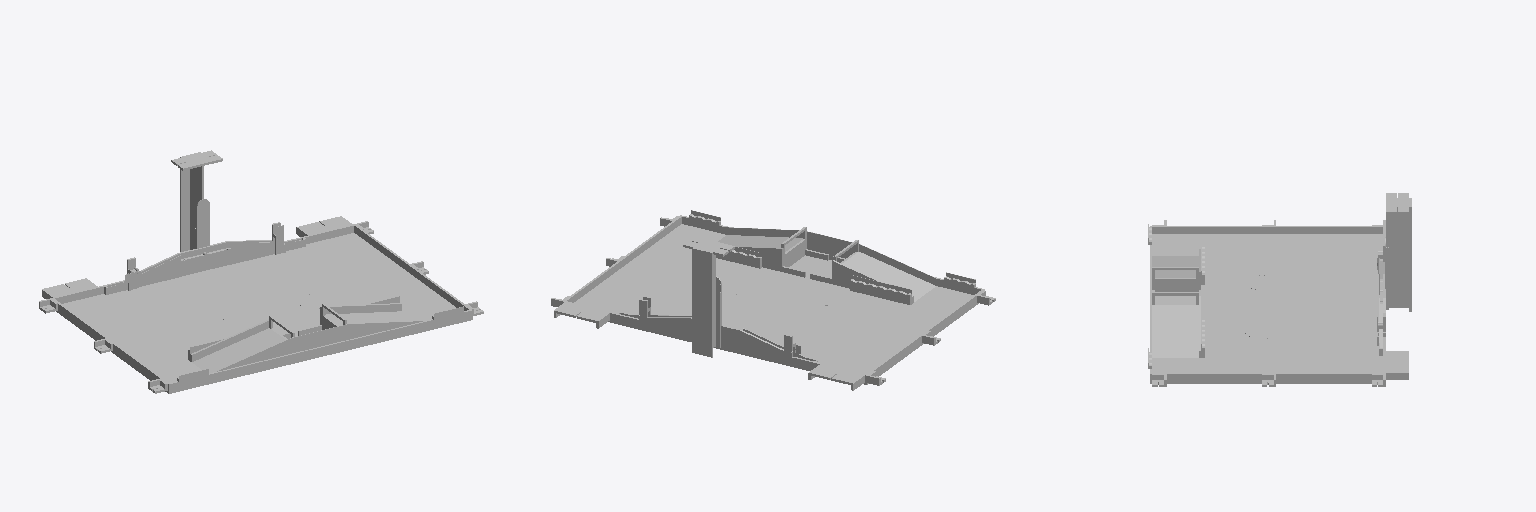
File: table_without_scale.obj
The picture shows the model from 3 angles: view 1: azimuth 30°, elevation 25°; view 2: azimuth 150°, elevation 25°; view 3: azimuth 270°, elevation 25°; orthographic projection.
Parts seen in each view (by area): view 1: Ground v30, BorderLong v5, R2_1, R3_, R3_1, BorderSmall v2, BorderSmall v003, A3, A3(Mirror), MiddleBeaconVertSupport2 v3, BorderLong v006, R2_2 (+7 smaller); view 2: Ground v30, MiddleBeaconVertSupport2 v3, BorderLong v006, R2_1, BorderSmall v2, BorderLong v5, BorderSmall v003, Dispenser6Places v004, R3_1, A2(Mirror), R3_, R2_2 (+6 smaller); view 3: Ground v30, R2_2, BorderSmall v003, MiddleBeaconVertSupport1 v2, BorderSmall v2, R2_1, R4_2, Labo1 v1.
Part boxes in pixels (bbox=[...]): Ground v30: bbox=[62, 233, 455, 382]; BorderLong v5: bbox=[170, 310, 470, 393]; R2_1: bbox=[192, 328, 284, 372]; R3_: bbox=[216, 331, 319, 371]; R3_1: bbox=[320, 321, 422, 346]; BorderSmall v2: bbox=[51, 298, 170, 393]; BorderSmall v003: bbox=[353, 224, 472, 319]; A3: bbox=[231, 239, 305, 264]; A3(Mirror): bbox=[106, 255, 180, 294]; MiddleBeaconVertSupport2 v3: bbox=[180, 152, 200, 251]; BorderLong v006: bbox=[55, 226, 353, 303]; R2_2: bbox=[325, 311, 413, 325]; Ground v30: bbox=[574, 224, 973, 373]; MiddleBeaconVertSupport2 v3: bbox=[692, 247, 712, 357]; BorderLong v006: bbox=[608, 312, 864, 384]; R2_1: bbox=[842, 252, 935, 301]; BorderSmall v2: bbox=[865, 289, 984, 384]; BorderLong v5: bbox=[682, 216, 981, 294]; BorderSmall v003: bbox=[563, 215, 681, 302]; Dispenser6Places v004: bbox=[850, 275, 911, 304]; R3_1: bbox=[727, 227, 831, 252]; A2(Mirror): bbox=[716, 325, 783, 354]; R3_: bbox=[832, 237, 936, 278]; R2_2: bbox=[718, 235, 802, 251]; Ground v30: bbox=[1152, 234, 1382, 372]; R2_2: bbox=[1152, 305, 1198, 357]; BorderSmall v003: bbox=[1150, 373, 1385, 383]; MiddleBeaconVertSupport1 v2: bbox=[1386, 209, 1408, 307]; BorderSmall v2: bbox=[1150, 226, 1385, 233]; R2_1: bbox=[1152, 256, 1198, 277]; R4_2: bbox=[1152, 267, 1198, 291]; Labo1 v1: bbox=[1386, 351, 1408, 374].
Bounding box in the file's own units: 3288 × 1022 × 2279.